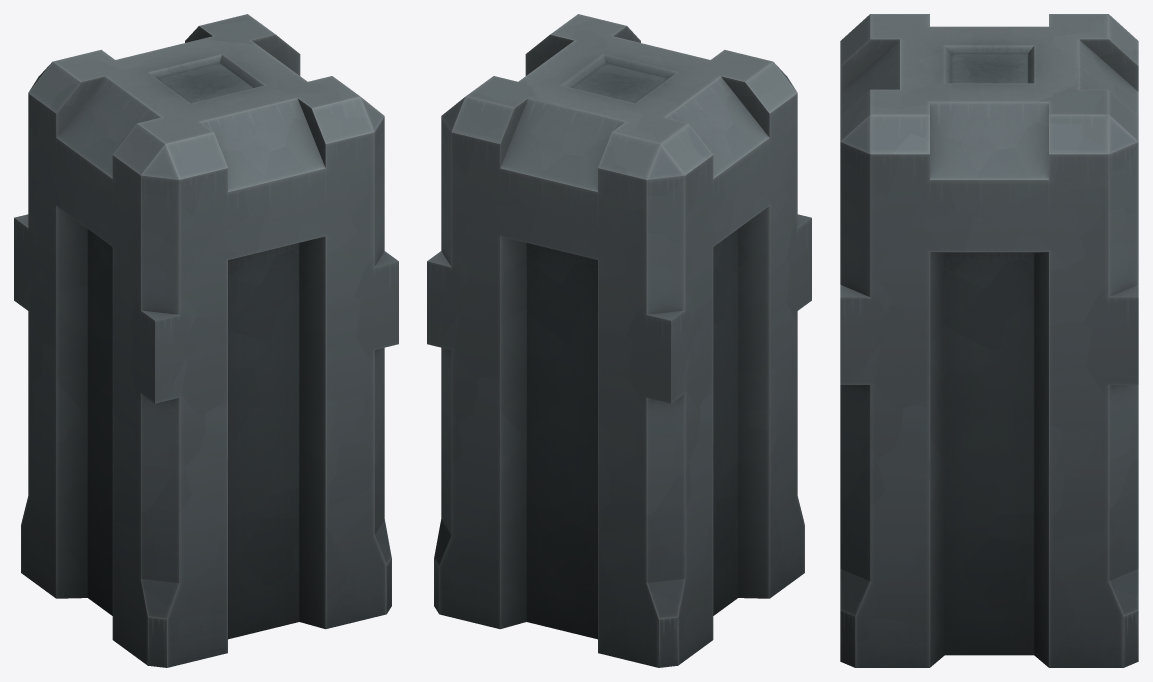
File: wall.dae
3 views of the same model, side by side, from view 1: azimuth 30°, elevation 25°; view 2: azimuth 150°, elevation 25°; view 3: azimuth 270°, elevation 25° (orthographic). The views are drawn at different scales.
Parts seen in each view (by area): view 1: Wall; view 2: Wall; view 3: Wall.
Part boxes in pixels (x1,y1,x2,y2): Wall: (14, 14, 398, 667); Wall: (427, 14, 811, 667); Wall: (840, 14, 1138, 667).
Bounding box in the file's own units: 1 × 2 × 1.
